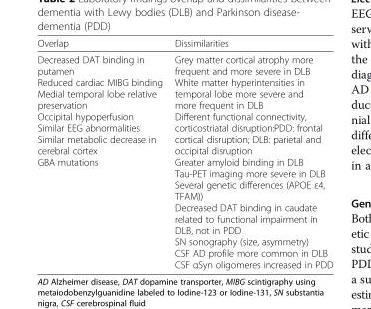table: (36, 36, 332, 269)
table column: (167, 36, 332, 269), (36, 36, 167, 269)
table column header: (36, 36, 332, 50)
table row: (36, 50, 332, 269), (36, 36, 332, 50)
